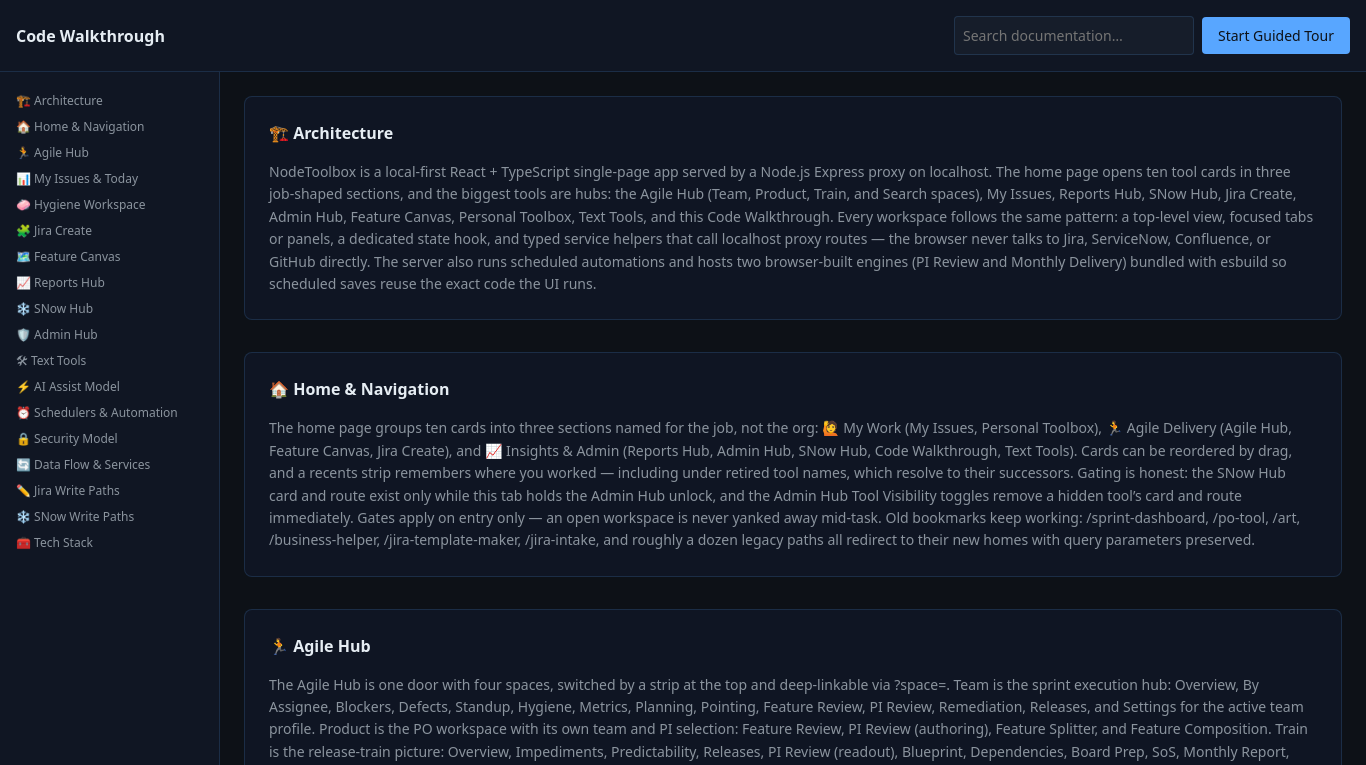
CodeWalkthroughView › shows no-results message when search query matches nothing
The image size is (1366, 765).
In the field with placeholder "Search documentation…": (1074, 36) [954, 16, 1194, 55], type "xyznonexistent123"
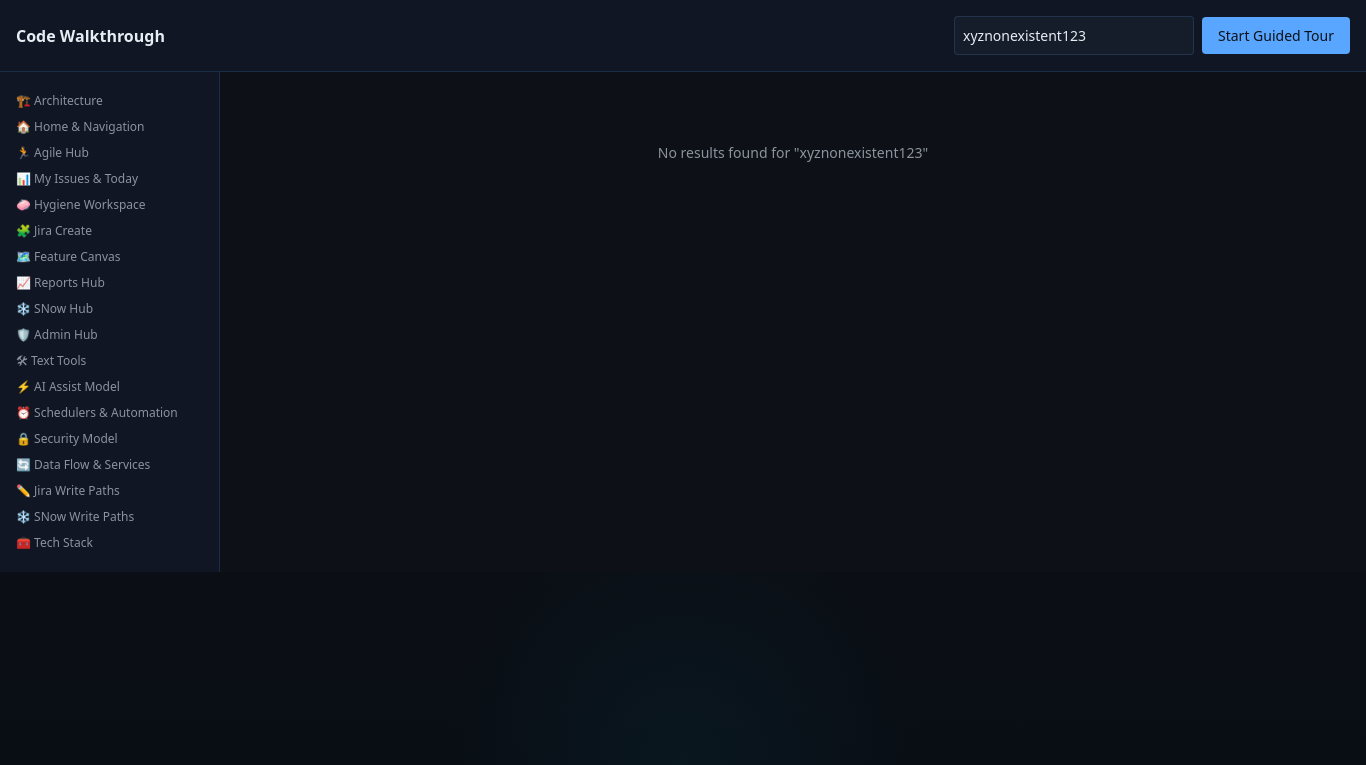
Result: the text "No results found for \"xyznonexistent123\"" is shown at [658, 143, 928, 162]
